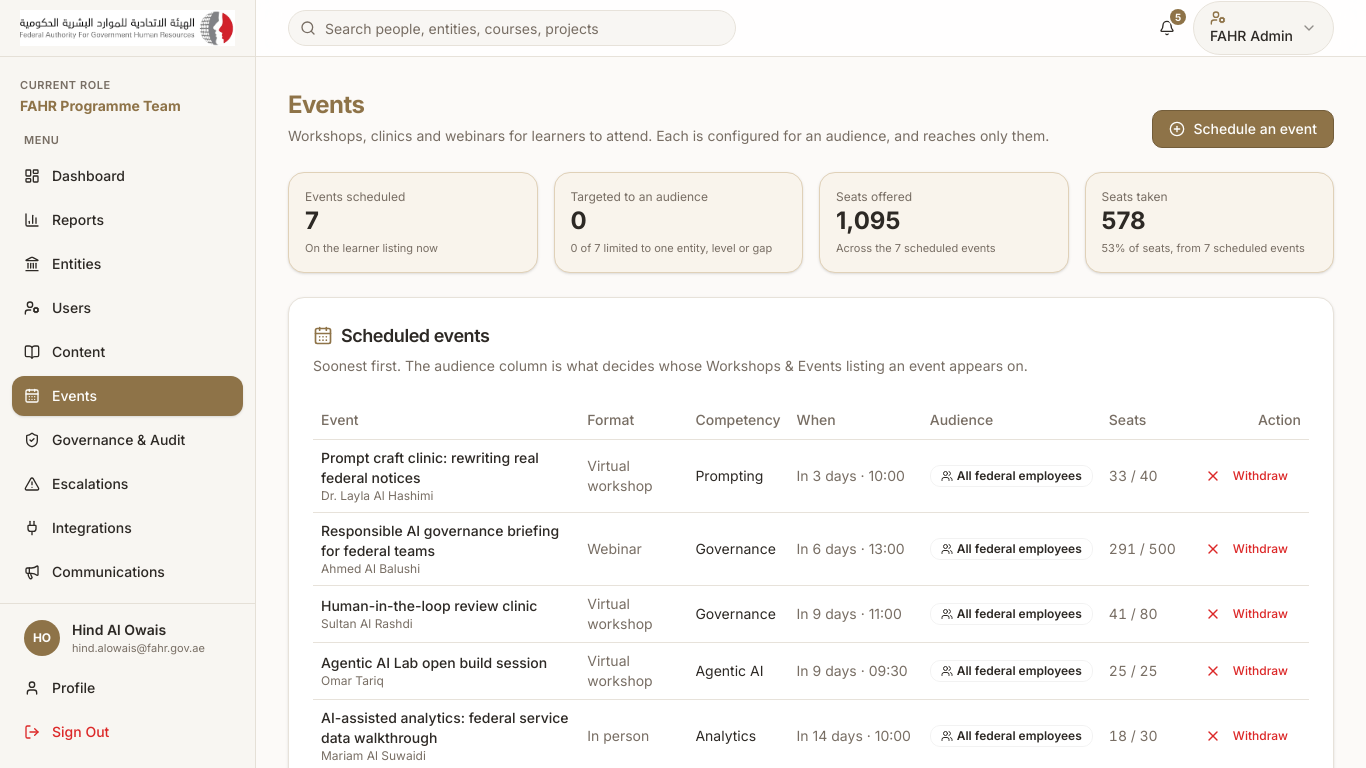
Scenario: federal events › will not schedule a targeted event without naming the audience
Click the button with test id "button-create-event" at (1243, 129), box x1=1152 y1=110 x2=1334 y2=148
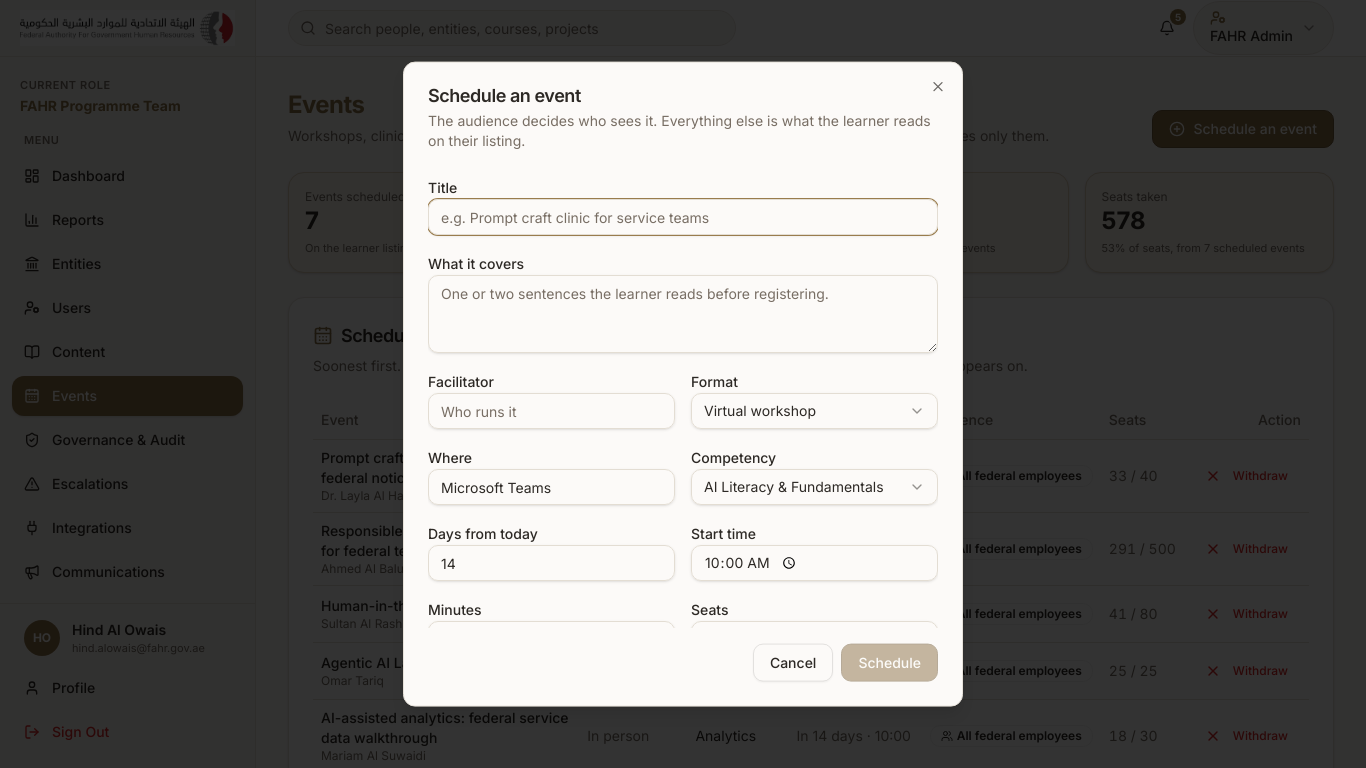
Type "Health-only clinic" into the field with test id "input-event-title" at (683, 217), box x1=428 y1=199 x2=938 y2=235
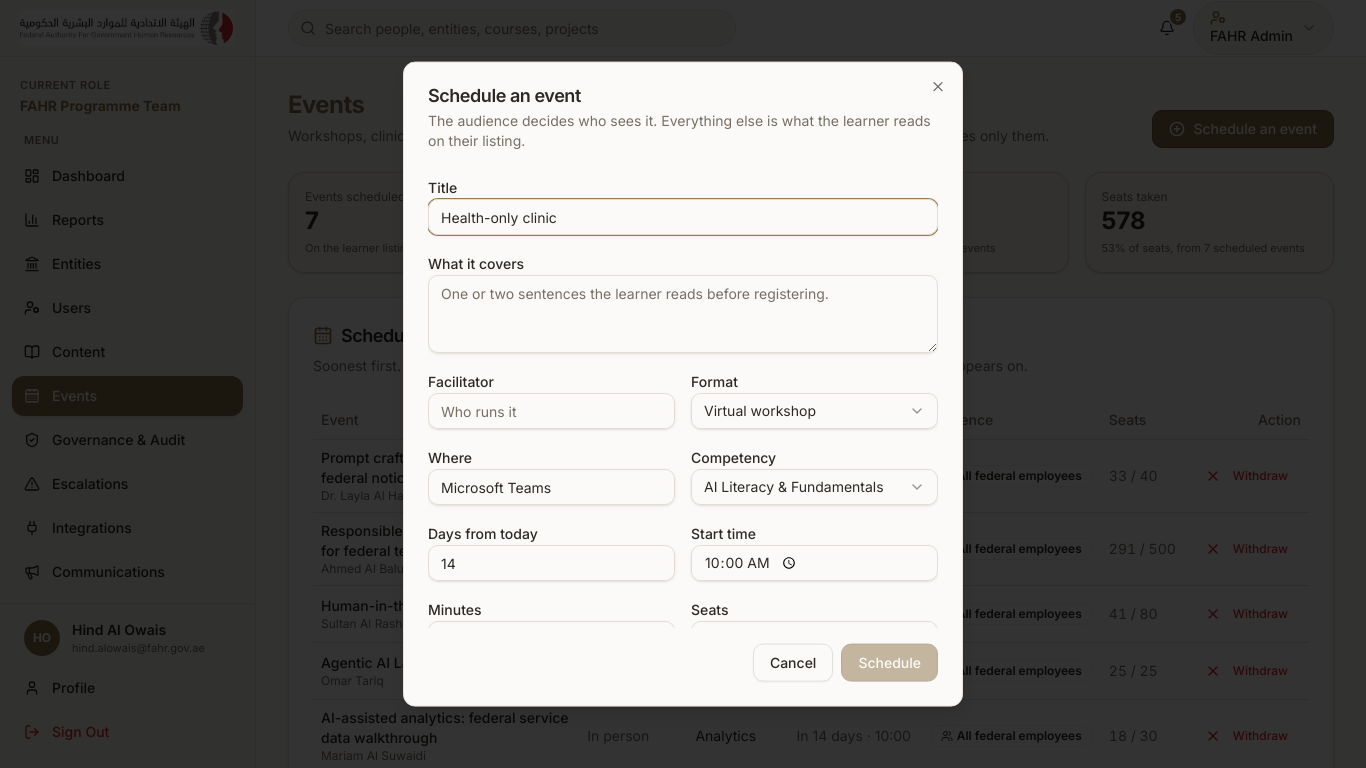
Type "Hind Al Owais" into the field with test id "input-event-facilitator" at (552, 411), box x1=428 y1=393 x2=675 y2=429
(page scrolled)
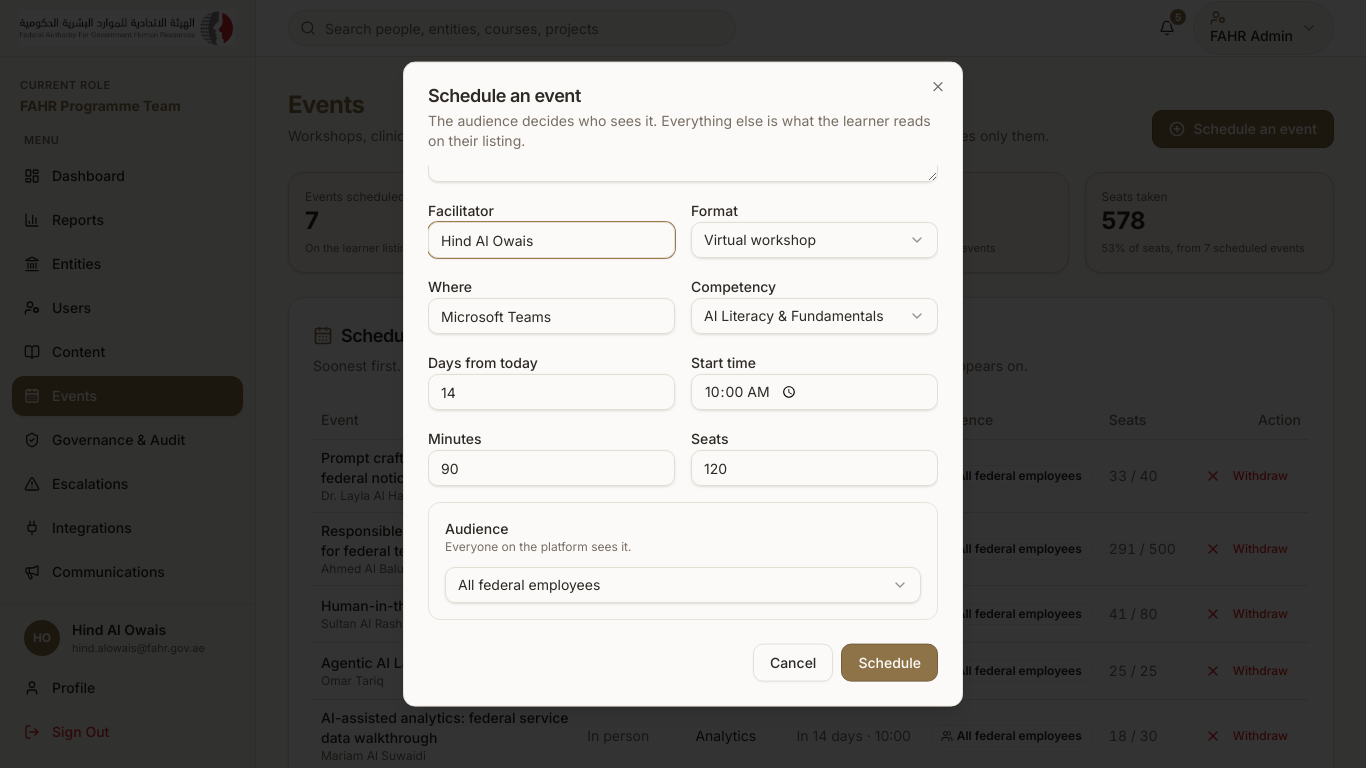
Expected: the button with test id "button-submit-event" is enabled, x1=841 y1=643 x2=938 y2=681
Note: …and closes once a scope that needs a target is chosen but left empty.
Click the dropdown with test id "select-event-audience-scope" at (529, 584), box x1=445 y1=567 x2=921 y2=603
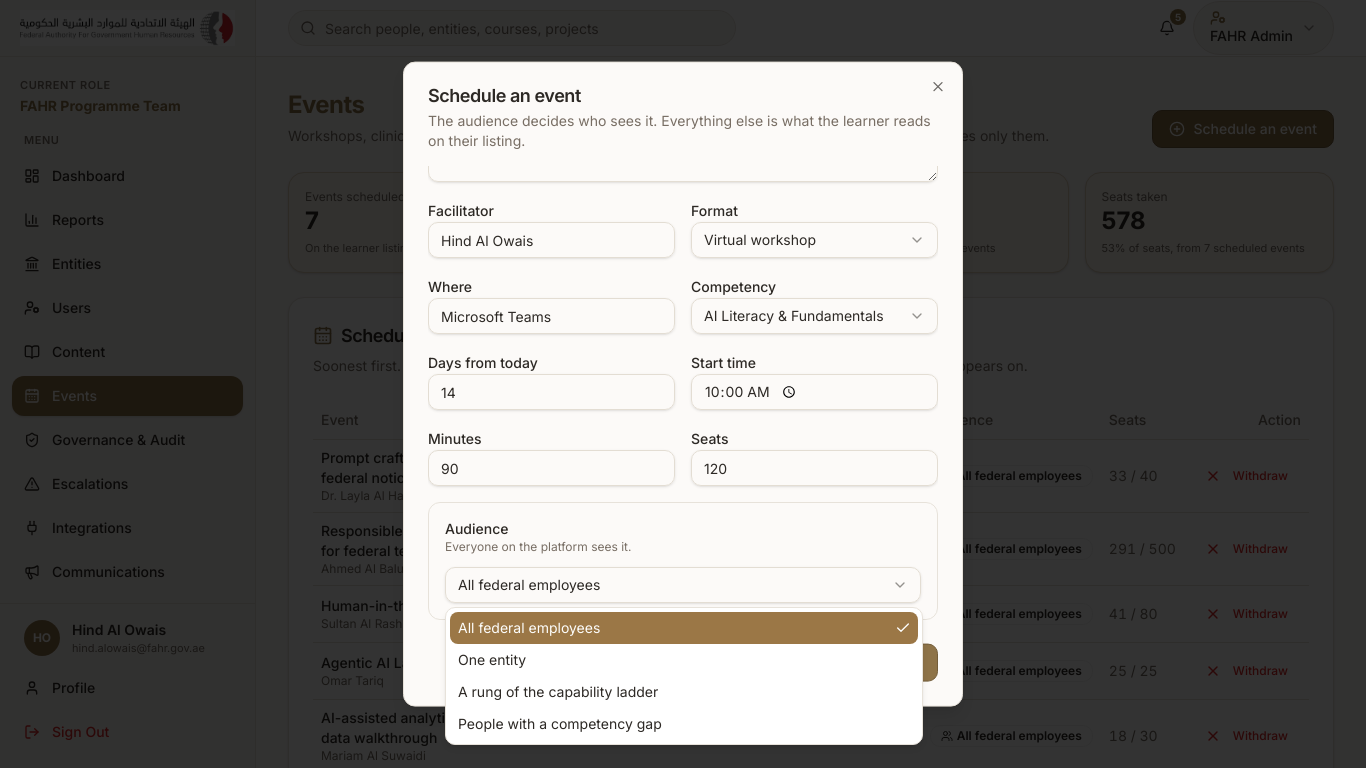
Click the option "One entity" at (492, 660), box x1=458 y1=651 x2=526 y2=668
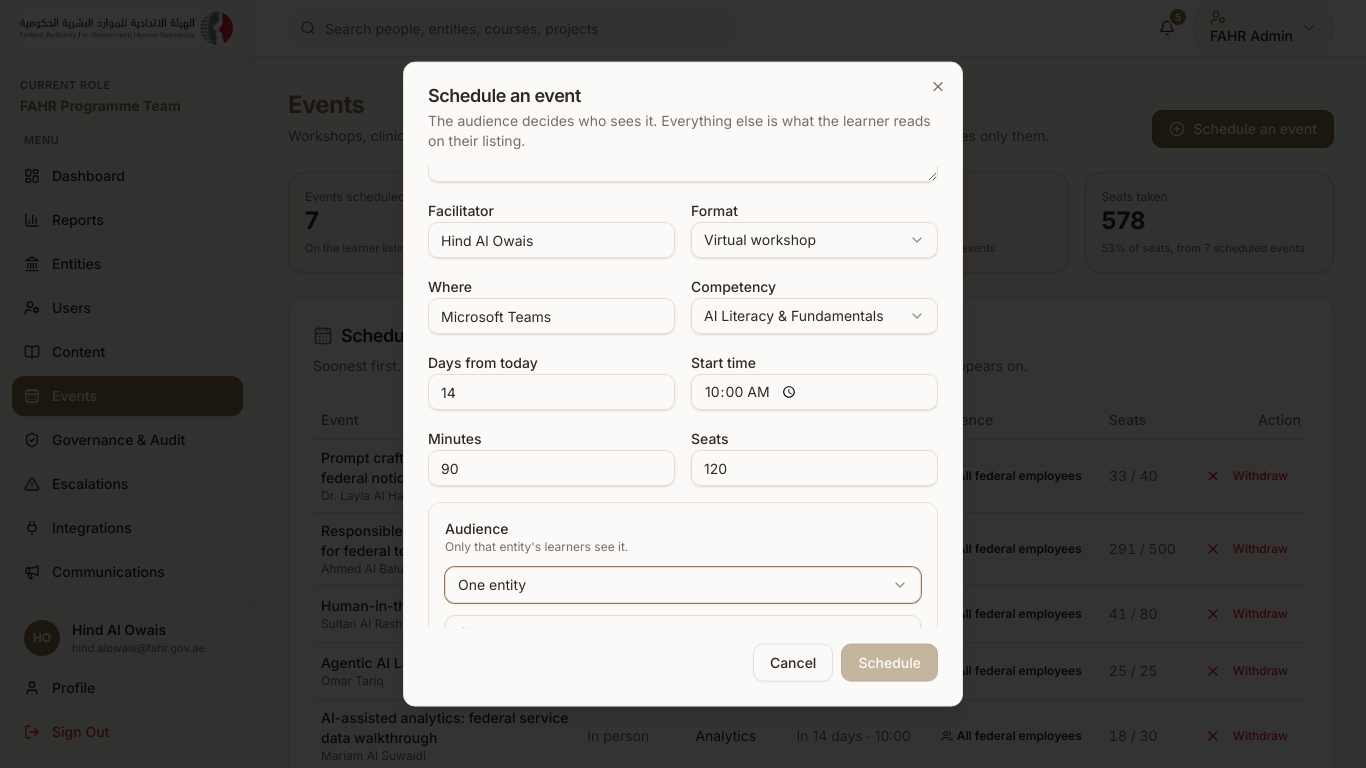
Expected: the button with test id "button-submit-event" is disabled, x1=841 y1=643 x2=938 y2=681
